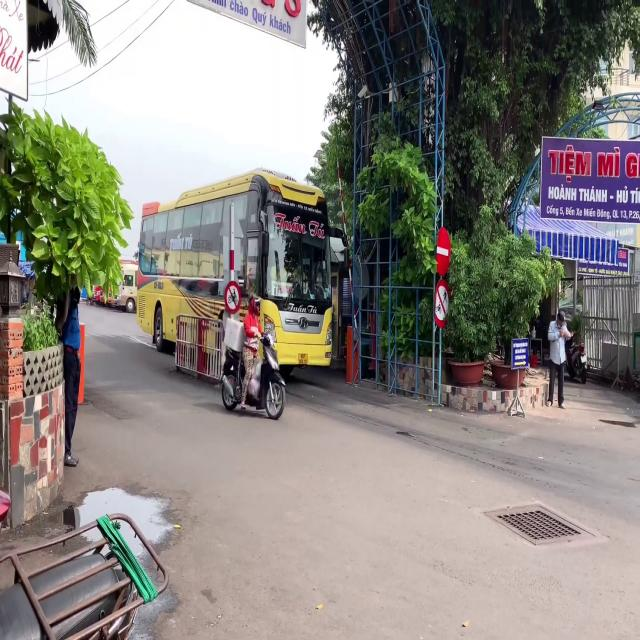bien_vang: (298, 354, 307, 364)
